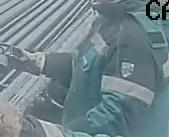gloves: (12, 47, 51, 80)
vest: (60, 11, 164, 136)
